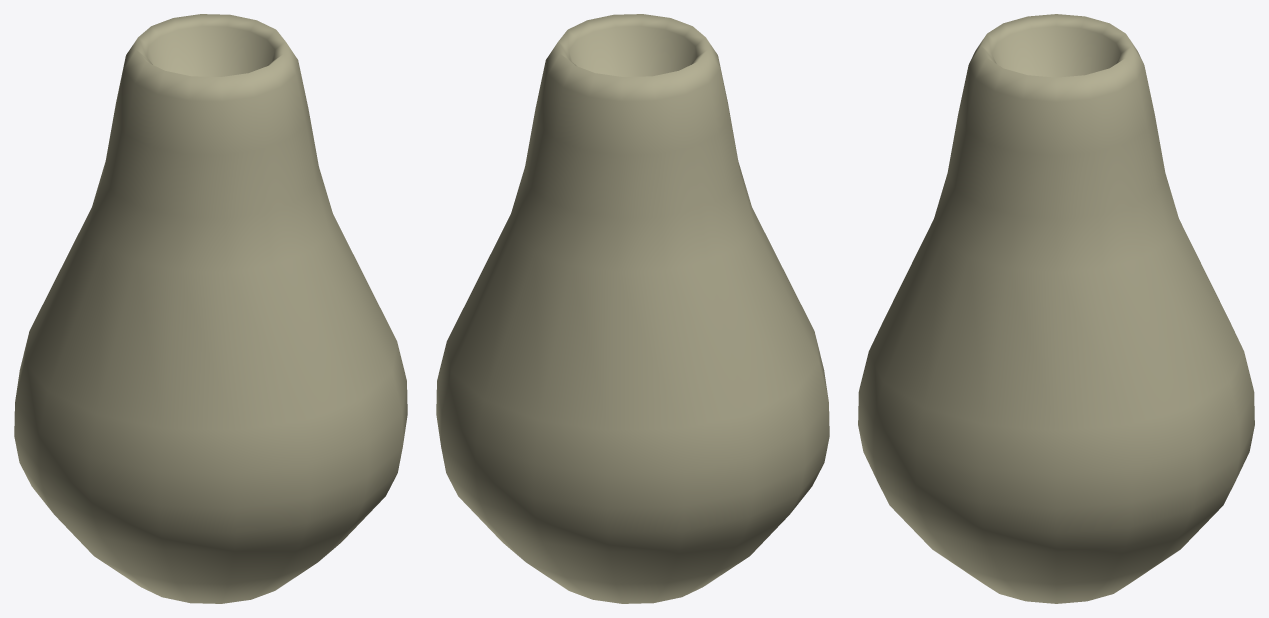
The model's file is Vase_01.fbx.
The picture shows the model from 3 angles, left to right: view 1: azimuth 30°, elevation 25°; view 2: azimuth 150°, elevation 25°; view 3: azimuth 270°, elevation 25°; orthographic projection.
Visible parts, largest first — view 1: Vase_01; view 2: Vase_01; view 3: Vase_01.
Part boxes in pixels (x1,y1,x2,y2): Vase_01: (14, 14, 407, 603); Vase_01: (436, 14, 829, 603); Vase_01: (858, 14, 1254, 603).
Size of the model in its own units: 17.51 by 25.51 by 17.51.
